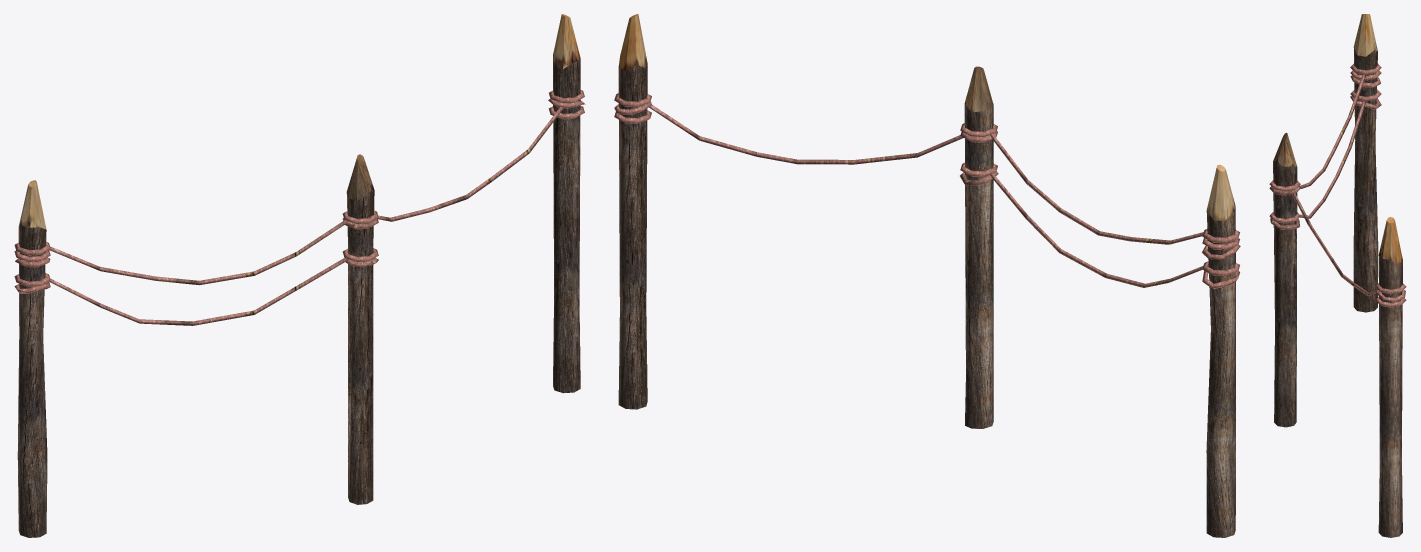
The model's file is pole_lines2.FBX.
The picture shows the model from 3 angles, left to right: view 1: azimuth 30°, elevation 25°; view 2: azimuth 150°, elevation 25°; view 3: azimuth 270°, elevation 25°; orthographic projection. The views are drawn at different scales.
Parts seen in each view (by area): view 1: pole_lines2; view 2: pole_lines2; view 3: pole_lines2.
Boxes of the visible parts, <box> form: pole_lines2: <box>14,14,585,537</box>; pole_lines2: <box>614,14,1240,537</box>; pole_lines2: <box>1269,14,1406,537</box>.
Bounding box in the file's own units: 80.36 × 49.36 × 19.54.
3 materials, 3 textured.
